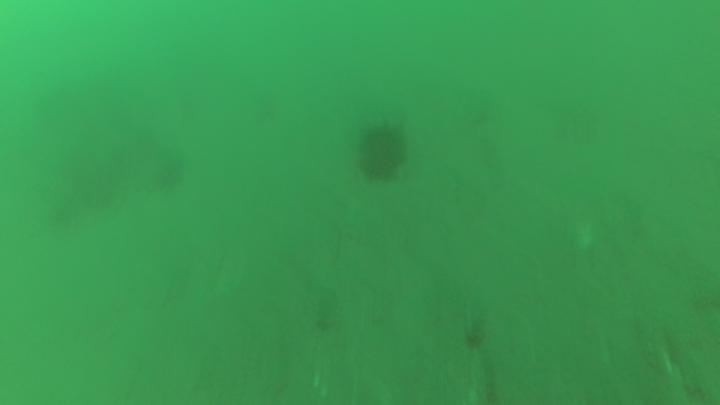echinus: (347, 112, 419, 190)
